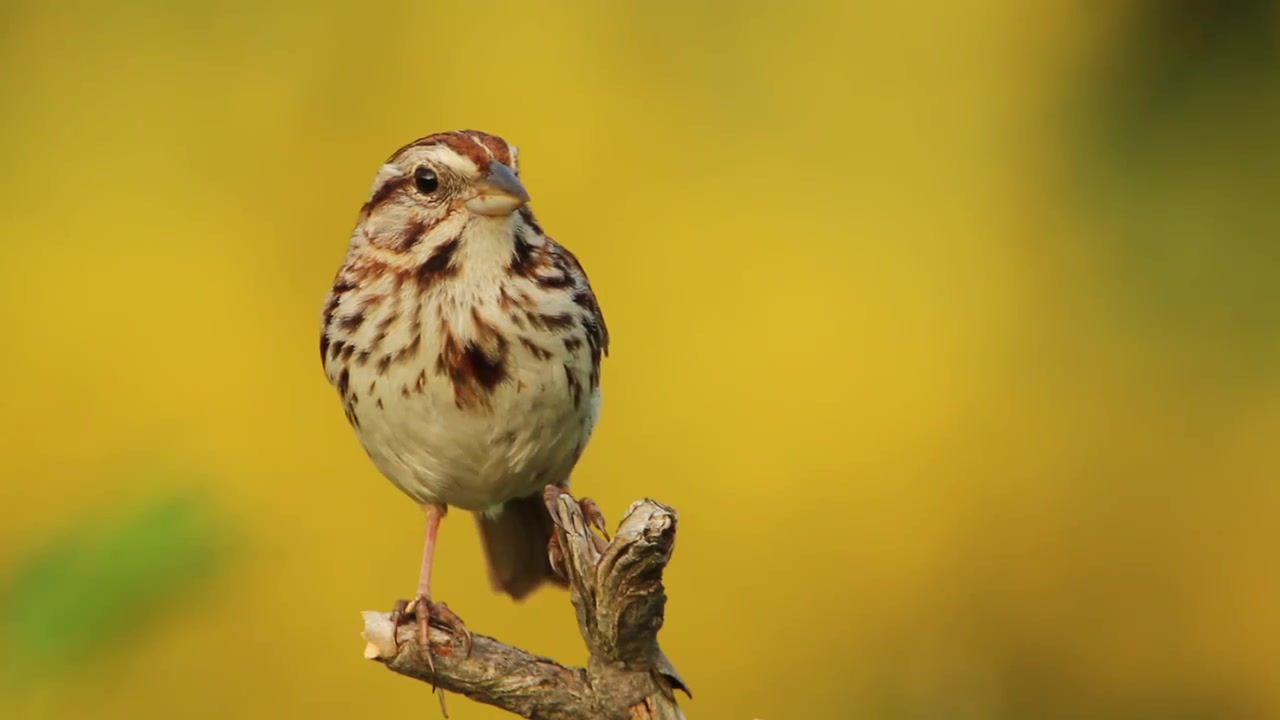bird: (318, 129, 612, 694)
